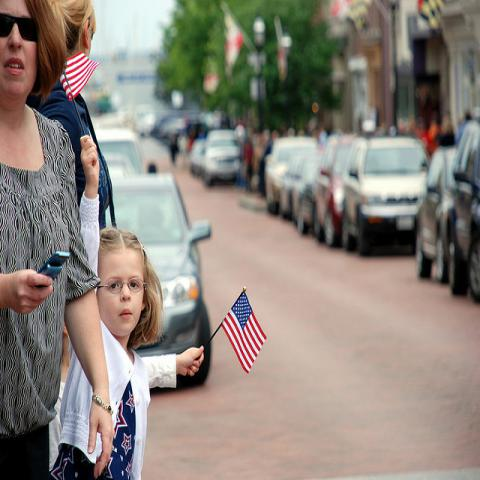car: (112, 170, 213, 391), (342, 134, 429, 253), (441, 117, 479, 301), (416, 143, 453, 283), (313, 132, 357, 246), (264, 138, 317, 218), (94, 130, 156, 185), (289, 151, 321, 235), (204, 129, 240, 190), (190, 137, 207, 177)
